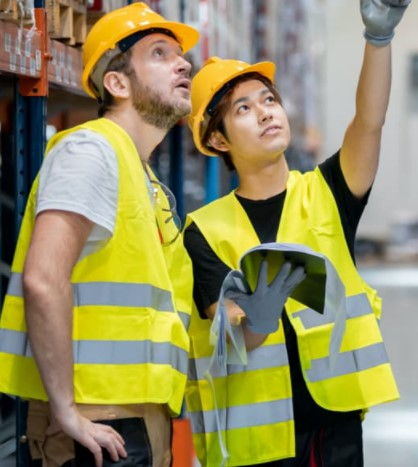worker: (191, 53, 400, 434), (1, 3, 190, 415)
